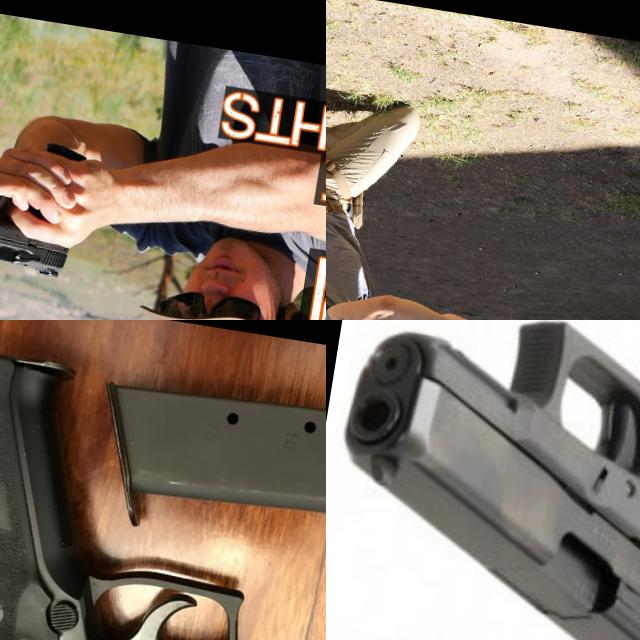handgun: (326, 320, 640, 640), (0, 333, 326, 640), (0, 184, 77, 282)
